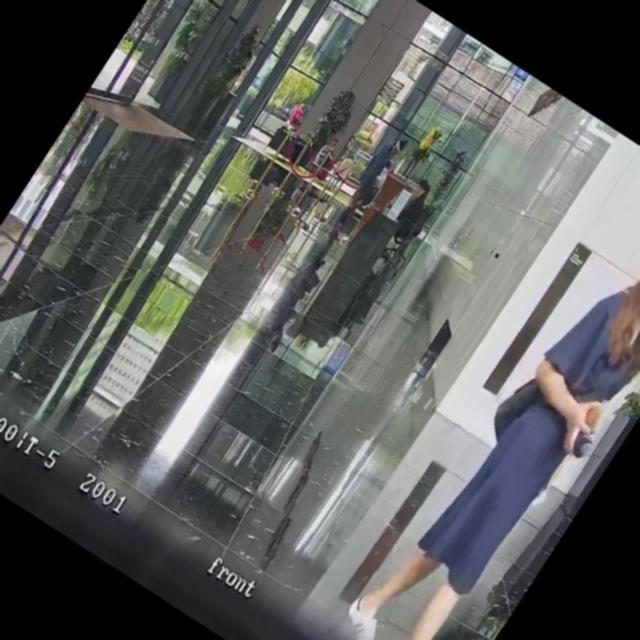person: (327, 179, 640, 640), (322, 130, 409, 248), (390, 178, 438, 236), (314, 134, 342, 168), (285, 100, 308, 128), (284, 115, 304, 137)
